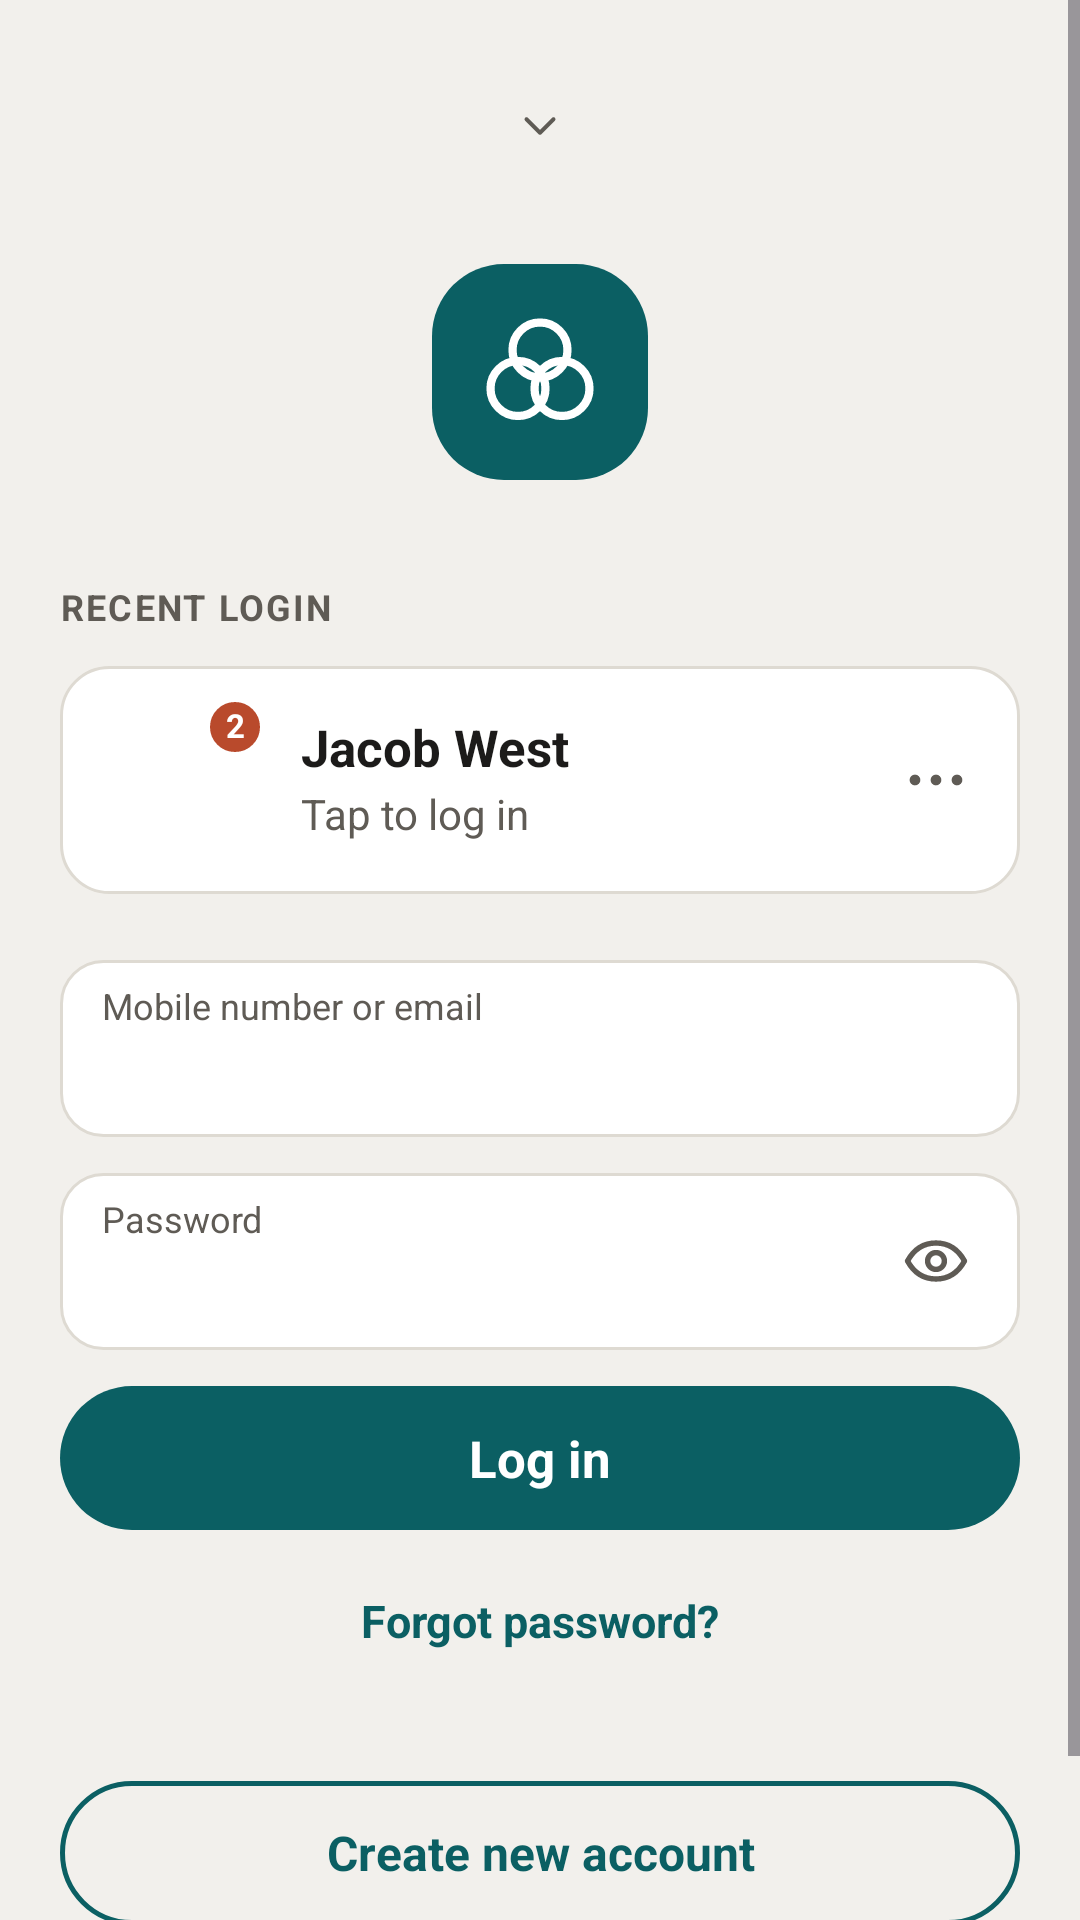

Locate icon controls on the screen. Image size 1080 x 1920, boxes as (x1, y1, x2, y2).
More: (909, 774, 963, 786)
